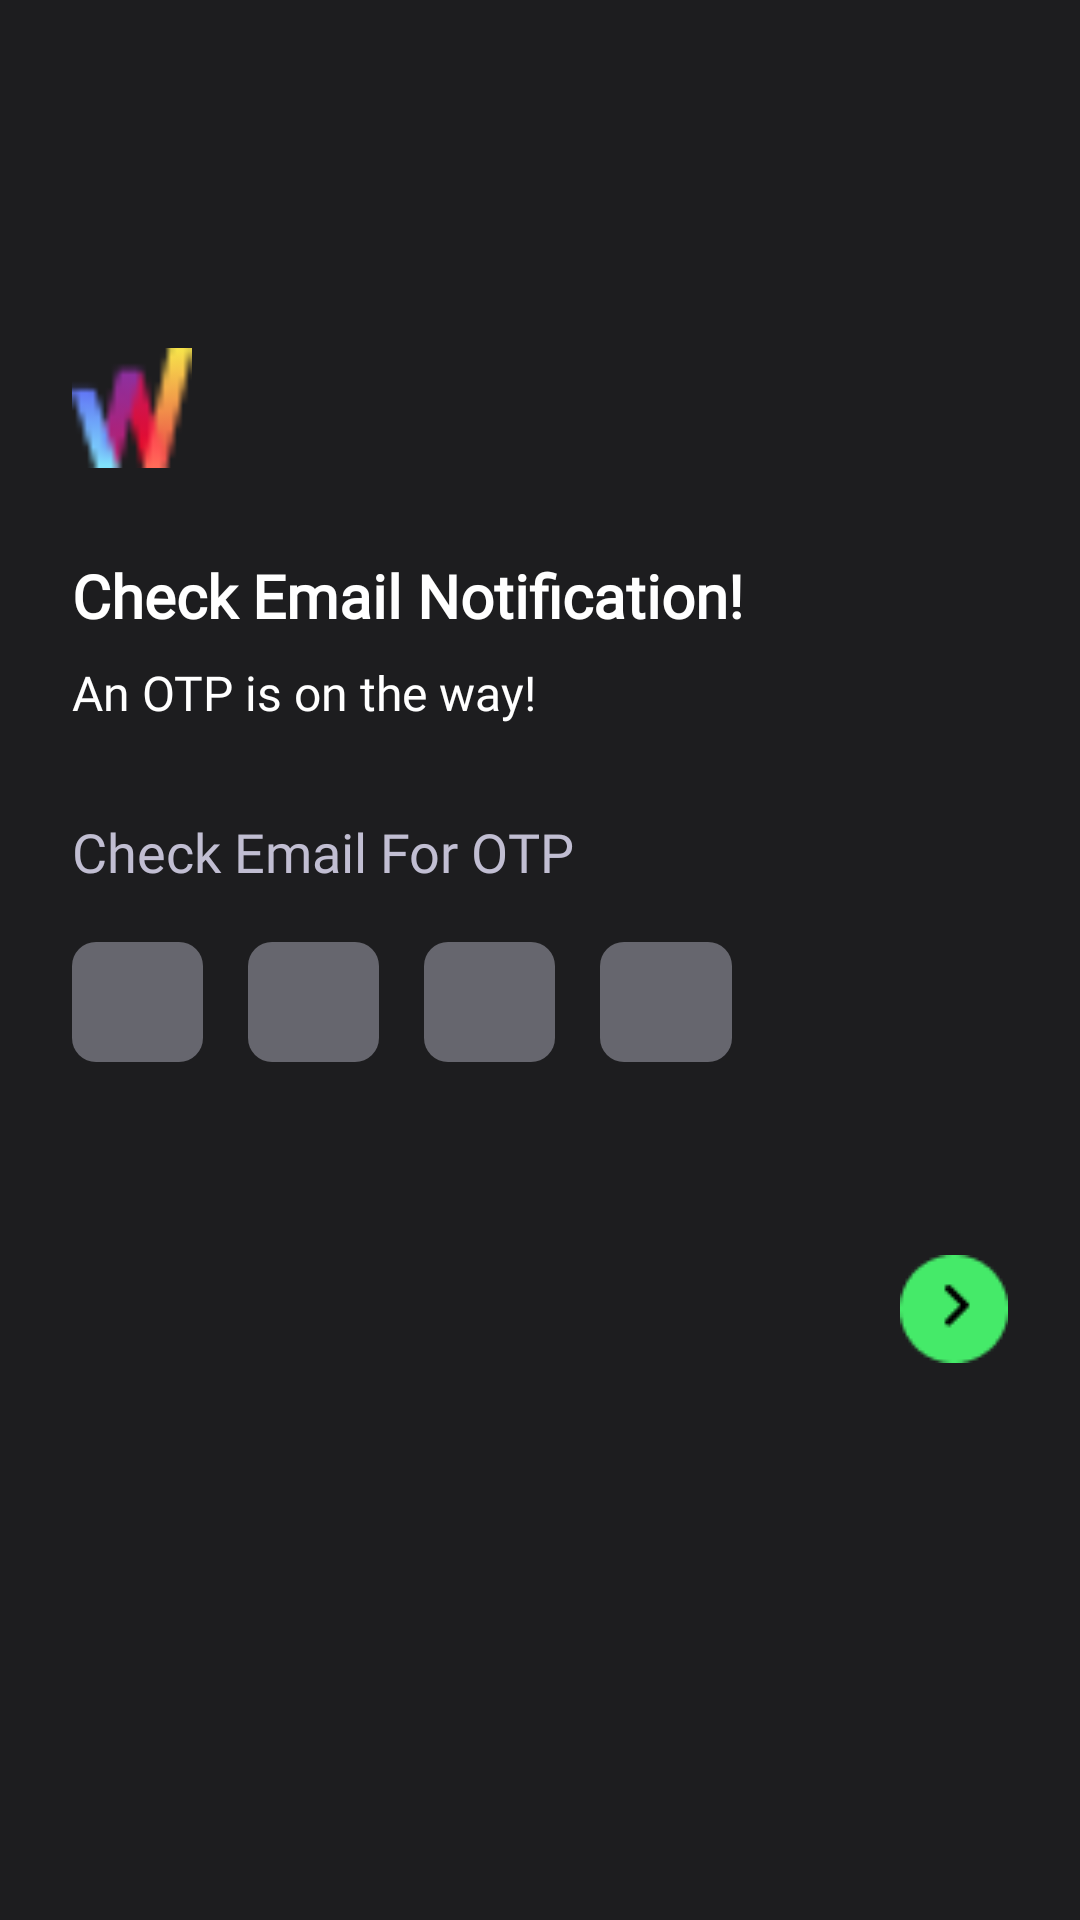

Screen size 1080w x 1920h. Icon name, then its center in pixels as (x,y):
next: (954,1309)
